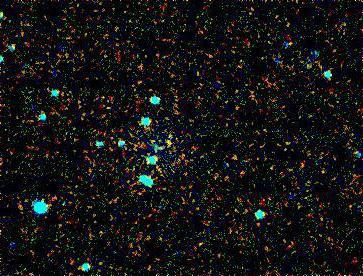star: (151, 126, 181, 156)
